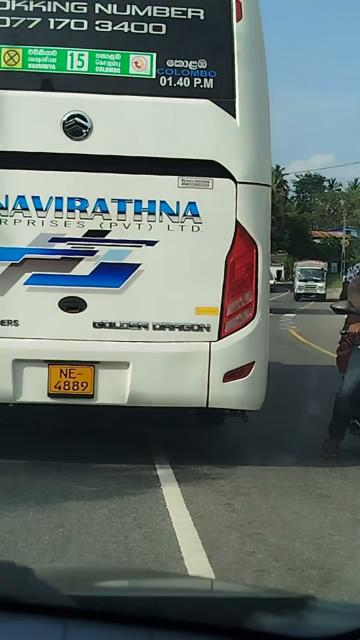number plate: (25, 350, 104, 401)
